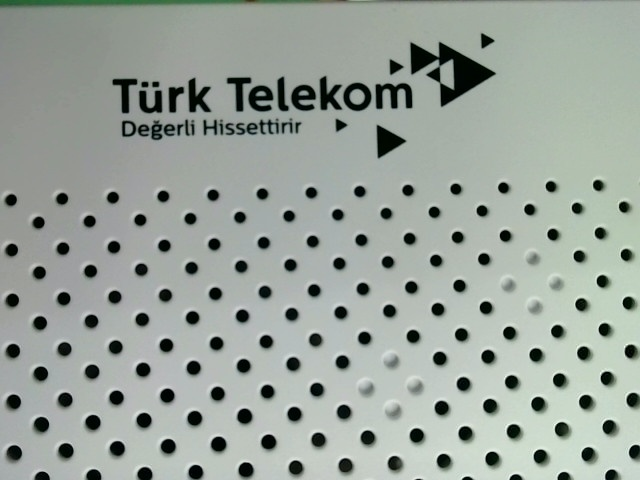AQ_TURKTelekom: (105, 32, 495, 158)
